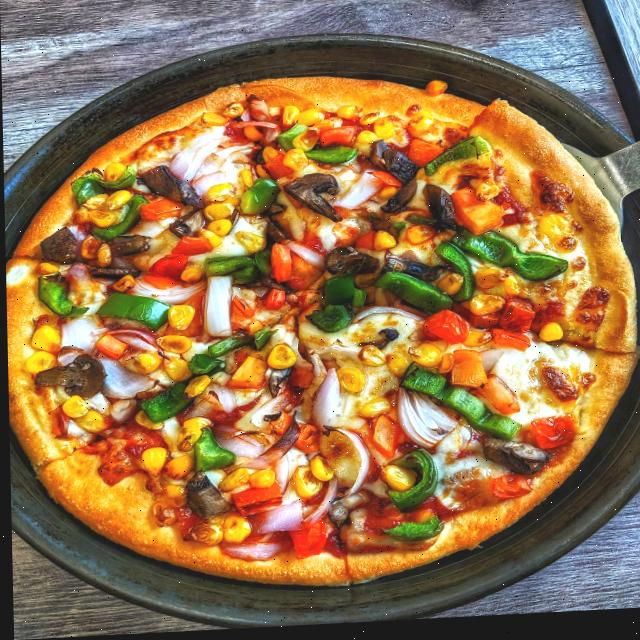mushrooms: (30, 353, 106, 404), (282, 175, 342, 228), (479, 440, 546, 482), (137, 167, 200, 210), (380, 254, 441, 289), (321, 247, 379, 283), (186, 475, 227, 521), (375, 181, 418, 219), (421, 188, 455, 233), (36, 226, 75, 265), (383, 152, 418, 187), (168, 211, 204, 241), (86, 265, 140, 281), (109, 236, 152, 256), (266, 369, 291, 402), (369, 145, 386, 174)
pizza: (2, 61, 640, 605)
